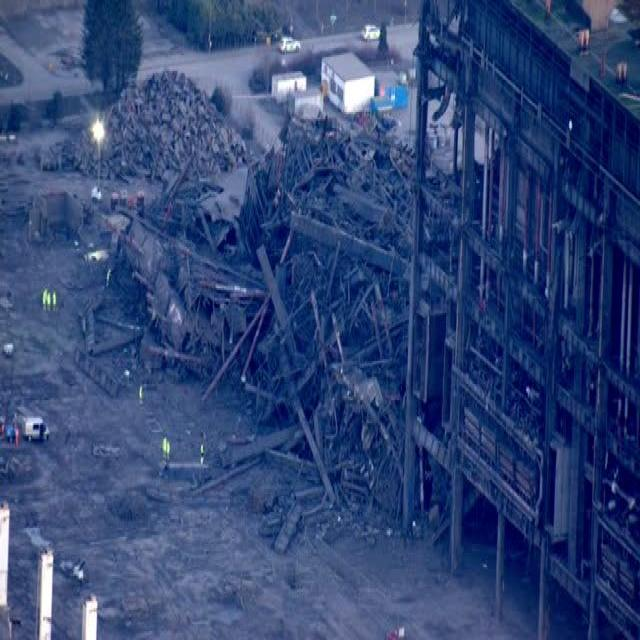collapsed_building: (126, 103, 461, 530)
